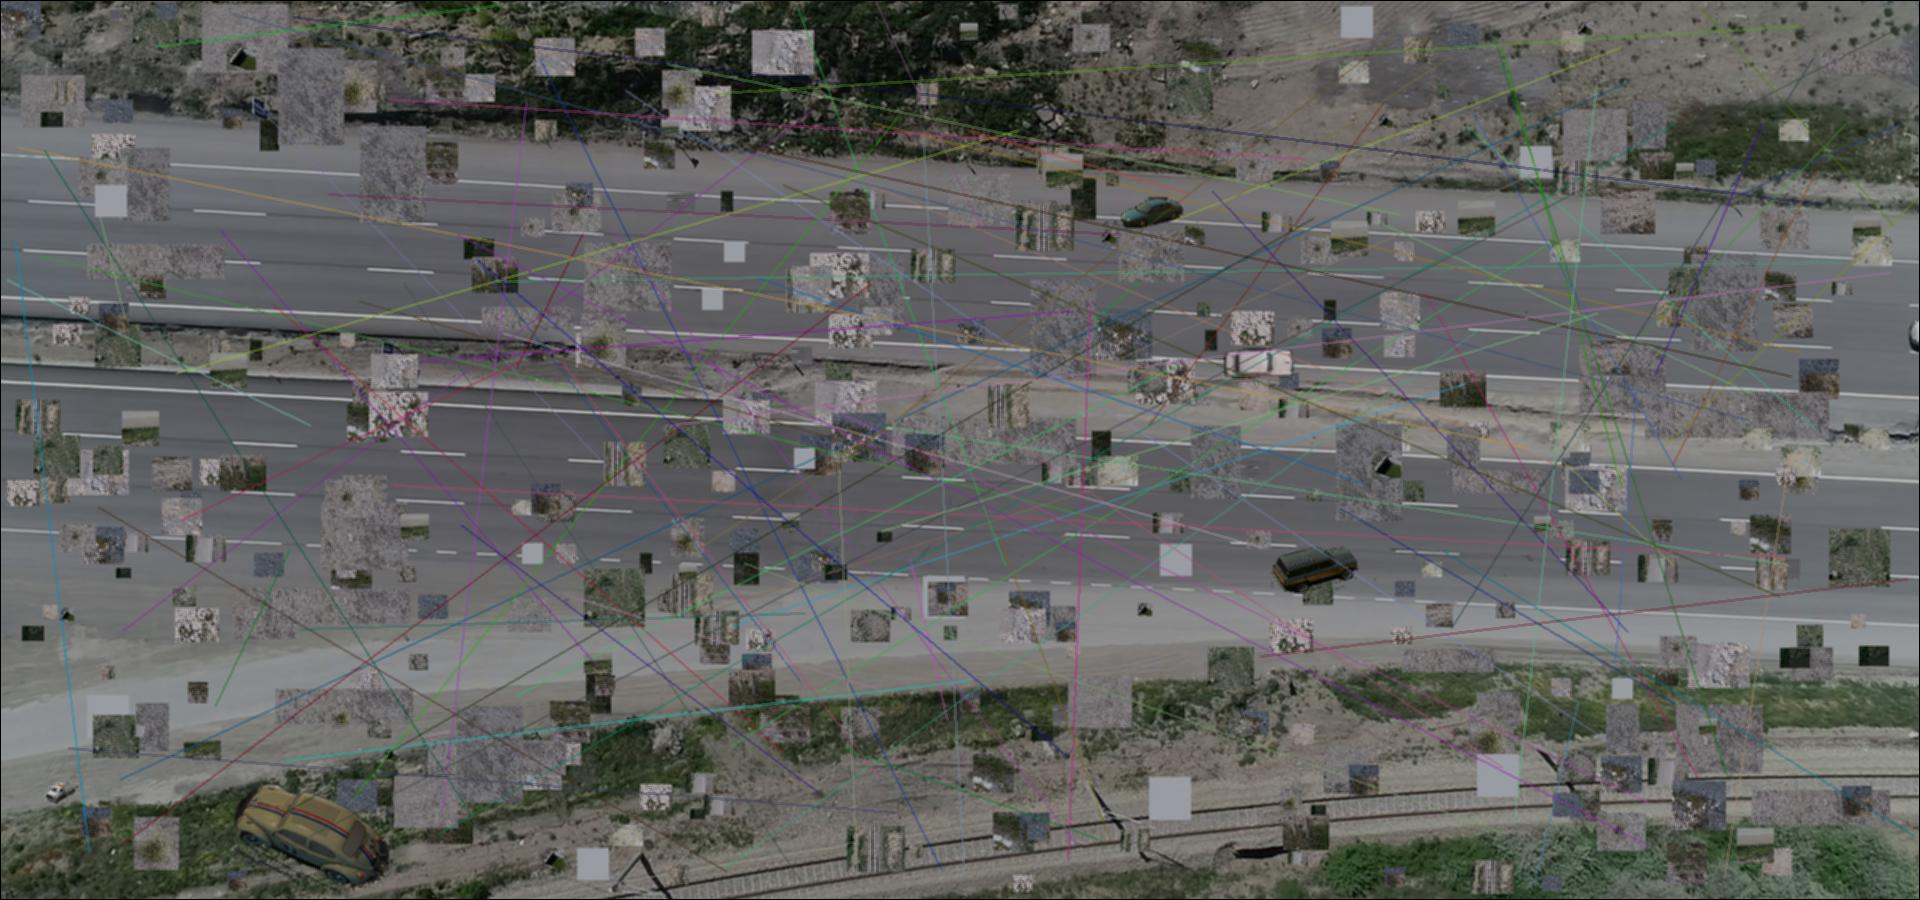arac: (234, 782, 389, 890), (1272, 547, 1359, 593), (1220, 347, 1297, 381), (1120, 196, 1183, 228), (45, 779, 80, 804)
